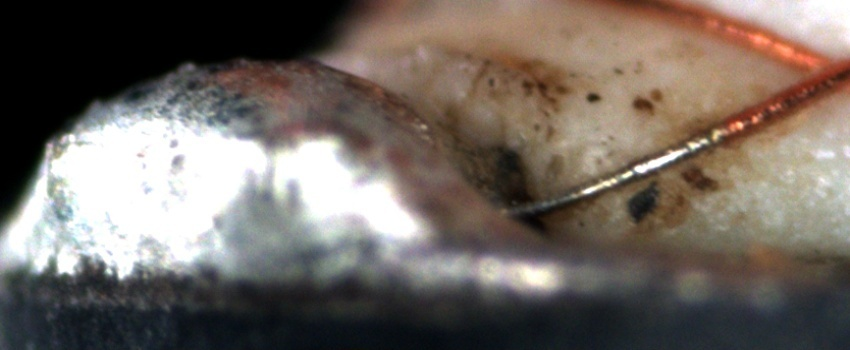TS: (502, 124, 729, 218)
